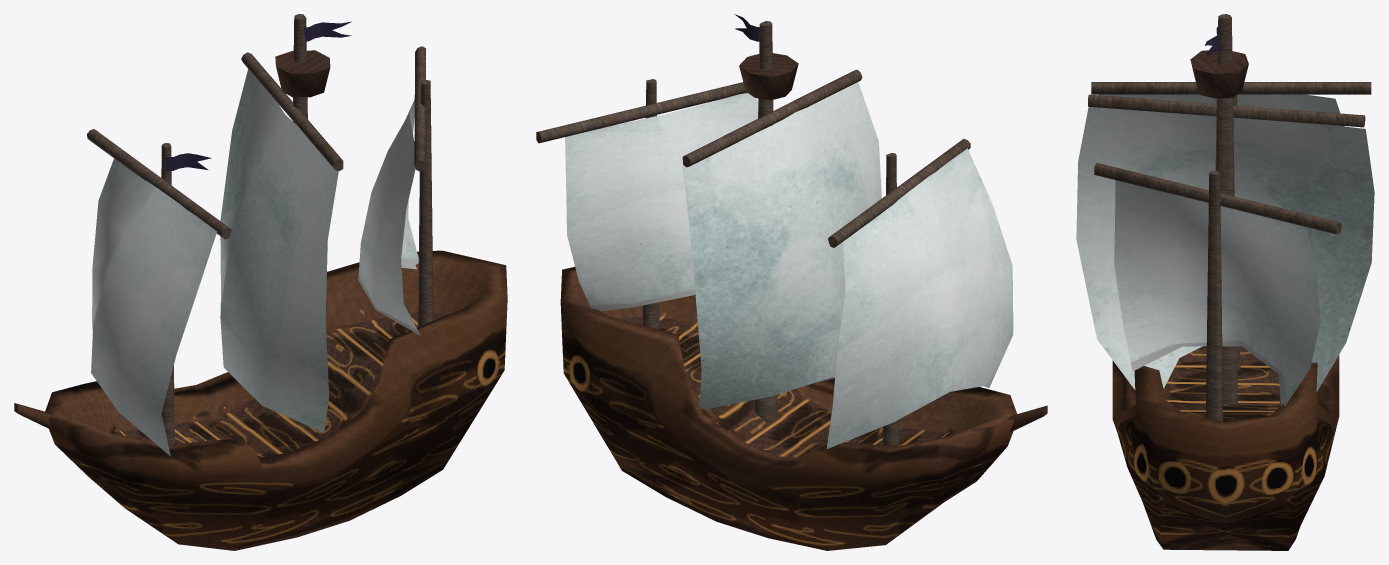
Rendered from asset.gltf.
3 renders of one model, left to right at view 1: azimuth 30°, elevation 25°; view 2: azimuth 150°, elevation 25°; view 3: azimuth 270°, elevation 25°, orthographic. The views are drawn at different scales.
Visible parts, largest first — view 1: barco, vela2, vela, vela3, mastil_3, vista, palo, palo1, pCube28, mastil_2, mastil_1; view 2: barco, vela2, vela, vela3, pCube28, palo1, vista, palo, mastil_1, mastil_2, mastil_3; view 3: vela2, barco, vela3, mastil_3, palo1, mastil_1, pCube28, palo, vela, vista.
Part boxes in pixels (x1,y1,x2,y2): barco: (45,250,507,550); vela2: (220,69,338,432); vela: (91,158,217,456); vela3: (358,100,420,335); mastil_3: (418,80,433,326); vista: (275,50,330,97); palo: (87,129,231,239); palo1: (241,52,343,170); pCube28: (414,46,425,171); mastil_2: (161,143,174,444); mastil_1: (292,14,307,122); barco: (560,266,1016,550); vela2: (682,82,881,409); vela: (826,148,1013,448); vela3: (565,93,758,311); pCube28: (536,82,747,143); palo1: (682,69,862,167); vista: (739,53,798,100); palo: (828,138,970,247); mastil_1: (753,21,777,421); mastil_2: (882,153,899,446); mastil_3: (643,79,659,329); vela2: (1076,107,1374,392); barco: (1112,346,1339,550); vela3: (1114,180,1320,405); mastil_3: (1205,170,1223,421); palo1: (1088,94,1365,127); mastil_1: (1215,14,1237,404); pCube28: (1094,163,1341,234); palo: (1091,82,1371,94); vela: (1098,94,1344,126); vista: (1190,50,1248,98).
Size of the model in its own units: 0.3531 by 0.334 by 0.1794.
Materials: 1 (1 with a texture image).
